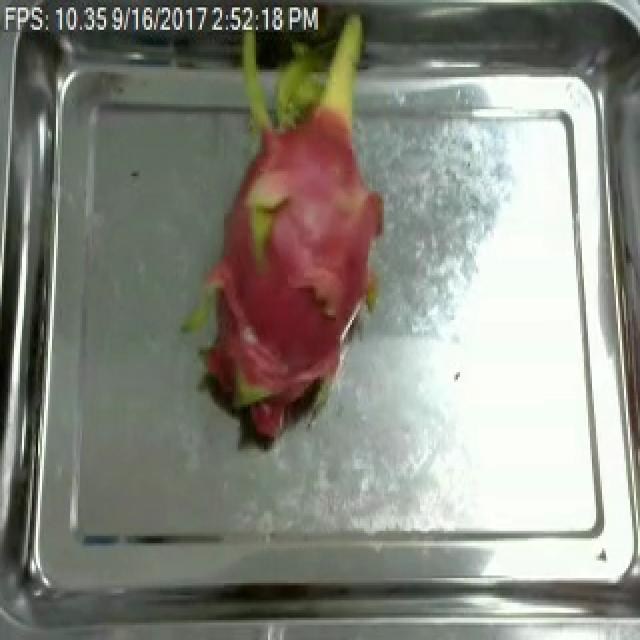fruit: (184, 5, 396, 414)
